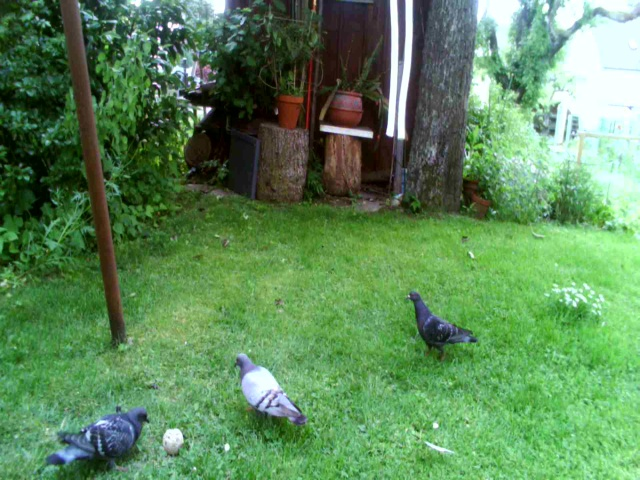Pigeon: (226, 348, 315, 439), (33, 404, 154, 469), (400, 282, 482, 361)
